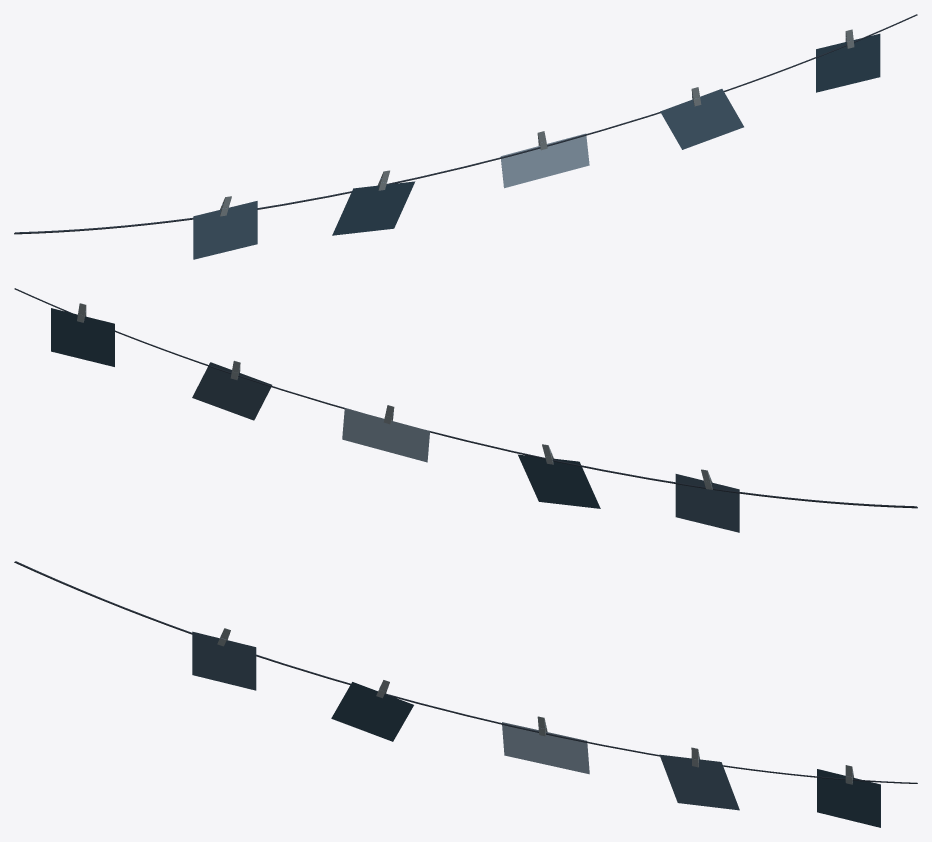
File: clothespinAnimation1.fbx
3 views of the same model, one above another, from view 1: azimuth 30°, elevation 25°; view 2: azimuth 150°, elevation 25°; view 3: azimuth 330°, elevation 25° (orthographic).
Visible parts, largest first — view 1: clothespine_paper4, clothespine_paper2, clothespine_paper1, clothespine_paper3, clothespine_paper5, clothesline; view 2: clothespine_paper3, clothespine_paper5, clothespine_paper2, clothespine_paper1, clothespine_paper4, clothesline; view 3: clothespine_paper4, clothespine_paper1, clothespine_paper2, clothespine_paper3, clothespine_paper5, clothesline.
Part boxes in pixels (left/top/right/bottom): clothespine_paper4: left=660, top=89, right=743, bottom=149; clothespine_paper2: left=332, top=181, right=415, bottom=235; clothespine_paper1: left=193, top=201, right=257, bottom=259; clothespine_paper3: left=500, top=133, right=589, bottom=188; clothespine_paper5: left=816, top=33, right=880, bottom=92; clothesline: left=14, top=14, right=917, bottom=234; clothespine_paper3: left=342, top=408, right=429, bottom=462; clothespine_paper5: left=51, top=308, right=114, bottom=366; clothespine_paper2: left=518, top=454, right=600, bottom=508; clothespine_paper1: left=675, top=474, right=739, bottom=532; clothespine_paper4: left=192, top=362, right=272, bottom=420; clothesline: left=14, top=288, right=917, bottom=508; clothespine_paper4: left=659, top=754, right=739, bottom=810; clothespine_paper1: left=192, top=631, right=256, bottom=690; clothespine_paper2: left=331, top=682, right=413, bottom=741; clothespine_paper3: left=502, top=722, right=589, bottom=774; clothespine_paper5: left=817, top=769, right=880, bottom=827; clothesline: left=14, top=561, right=917, bottom=783.
Size of the model in its own units: 1.73 by 0.1615 by 0.0125.
